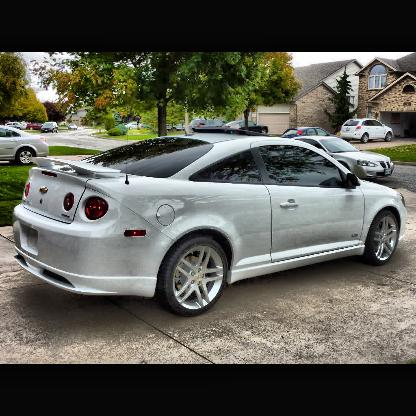Chevrolet Cobalt SS 2010: (15, 133, 411, 319)
